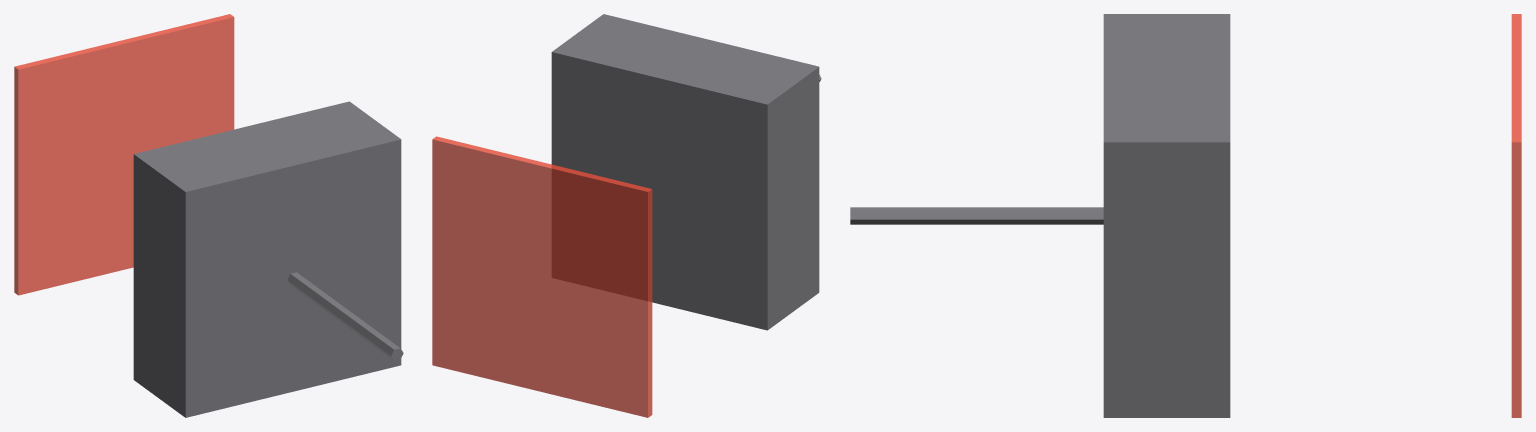
The model's file is falling_crusher_trap.glb.
3 renders of one model, left to right at view 1: azimuth 30°, elevation 25°; view 2: azimuth 150°, elevation 25°; view 3: azimuth 270°, elevation 25°, orthographic. The views are drawn at different scales.
Visible parts, largest first — view 1: crusher_block, warning_plate, chain; view 2: crusher_block, warning_plate; view 3: crusher_block, chain, warning_plate.
Boxes of the visible parts, box(x1,y1,x2,y2) form: crusher_block: box(133, 101, 401, 417); warning_plate: box(14, 14, 234, 295); chain: box(287, 272, 403, 360); crusher_block: box(551, 14, 819, 330); warning_plate: box(432, 136, 652, 417); crusher_block: box(1103, 14, 1230, 417); chain: box(850, 207, 1103, 224); warning_plate: box(1511, 14, 1521, 417).
Size of the model in its own units: 1.2 by 1.2 by 2.65.
